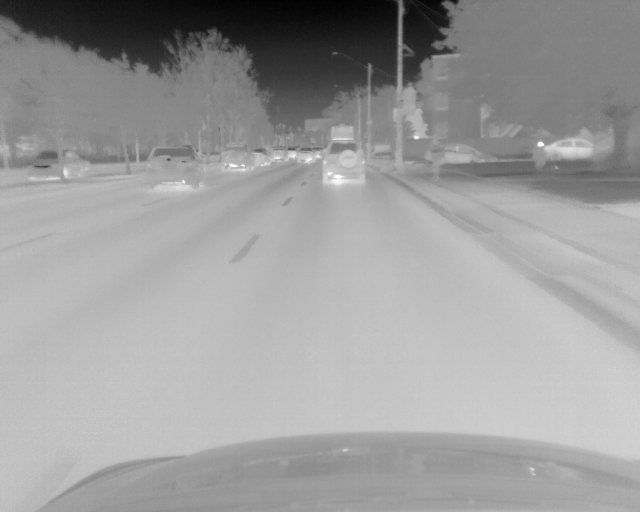car: (141, 143, 202, 192), (320, 125, 367, 185), (26, 149, 93, 184), (424, 141, 491, 167), (541, 137, 594, 163), (219, 142, 253, 173), (252, 147, 269, 169), (297, 148, 316, 164), (272, 145, 287, 163), (287, 147, 295, 161)
